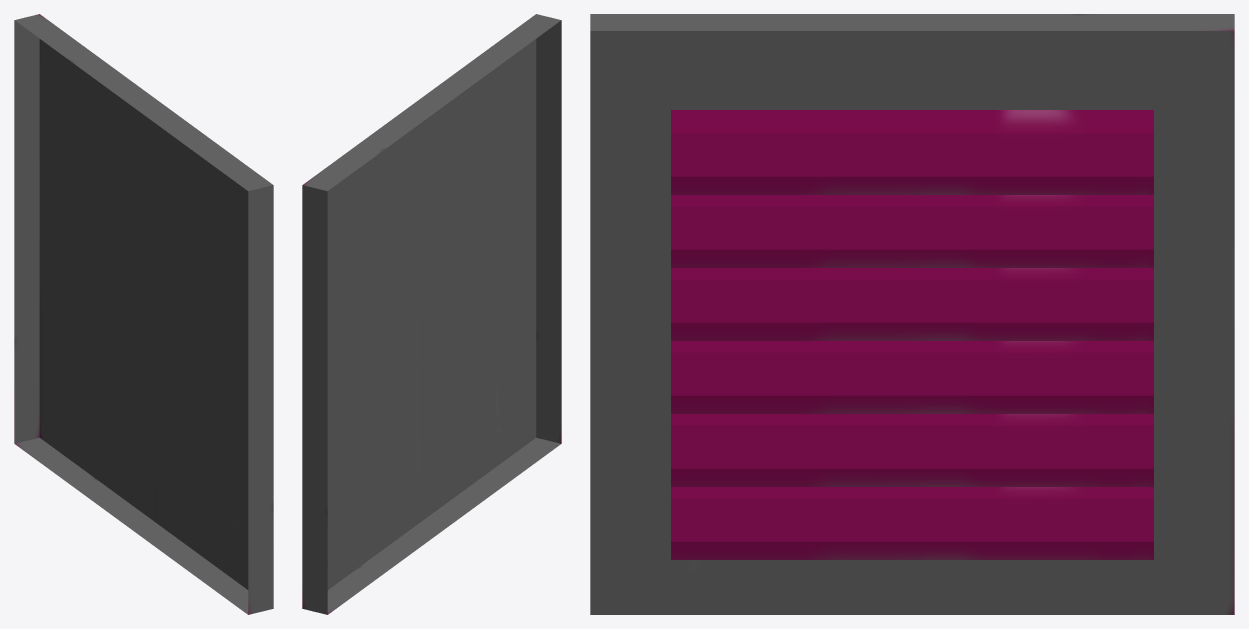
The model's file is vent.glb.
3 renders of one model, left to right at view 1: azimuth 30°, elevation 25°; view 2: azimuth 150°, elevation 25°; view 3: azimuth 270°, elevation 25°, orthographic. The views are drawn at different scales.
Visible parts, largest first — view 1: custom_low_poly; view 2: custom_low_poly; view 3: custom_low_poly.
Part boxes in pixels (left/top/right/bottom): custom_low_poly: left=14, top=14, right=273, bottom=614; custom_low_poly: left=302, top=14, right=561, bottom=614; custom_low_poly: left=590, top=14, right=1234, bottom=614.
Size of the model in its own units: 0.17 by 1.6 by 1.6.
Materials: 1 (1 with a texture image).
